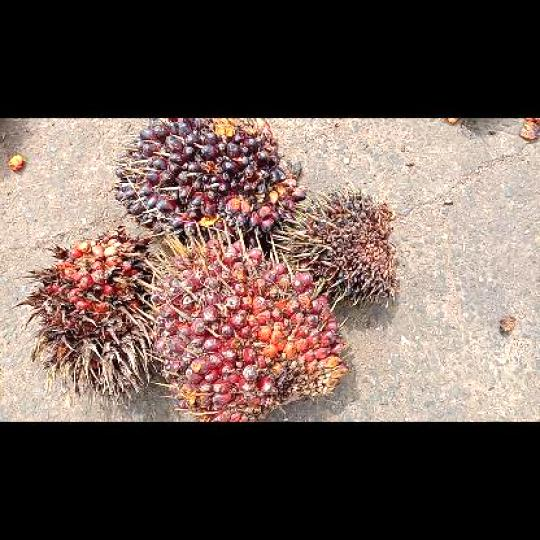kurang masak: (113, 118, 308, 245)
masak: (141, 231, 352, 421)
terlalu masak: (11, 225, 154, 406)
